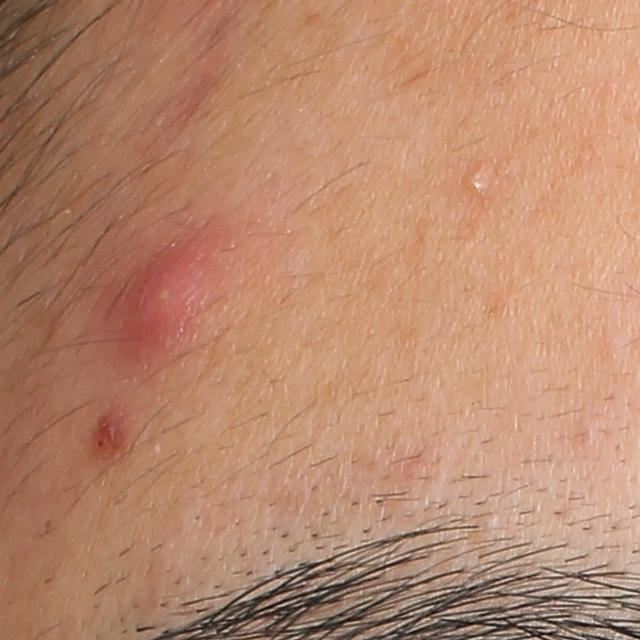comedo: (467, 166, 497, 199), (576, 416, 601, 449), (475, 507, 500, 532)
papule: (130, 236, 218, 342), (86, 410, 136, 462)
